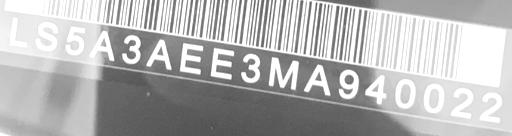letter: (266, 54, 300, 90), (300, 61, 332, 97), (144, 35, 174, 71), (208, 45, 236, 81), (178, 39, 204, 77), (88, 29, 116, 62), (391, 75, 417, 108), (478, 90, 504, 123), (34, 20, 60, 53), (364, 70, 388, 105), (450, 84, 474, 119), (337, 67, 361, 101), (421, 80, 445, 113), (120, 32, 142, 67), (62, 24, 86, 55), (8, 16, 28, 49), (239, 53, 261, 83)
